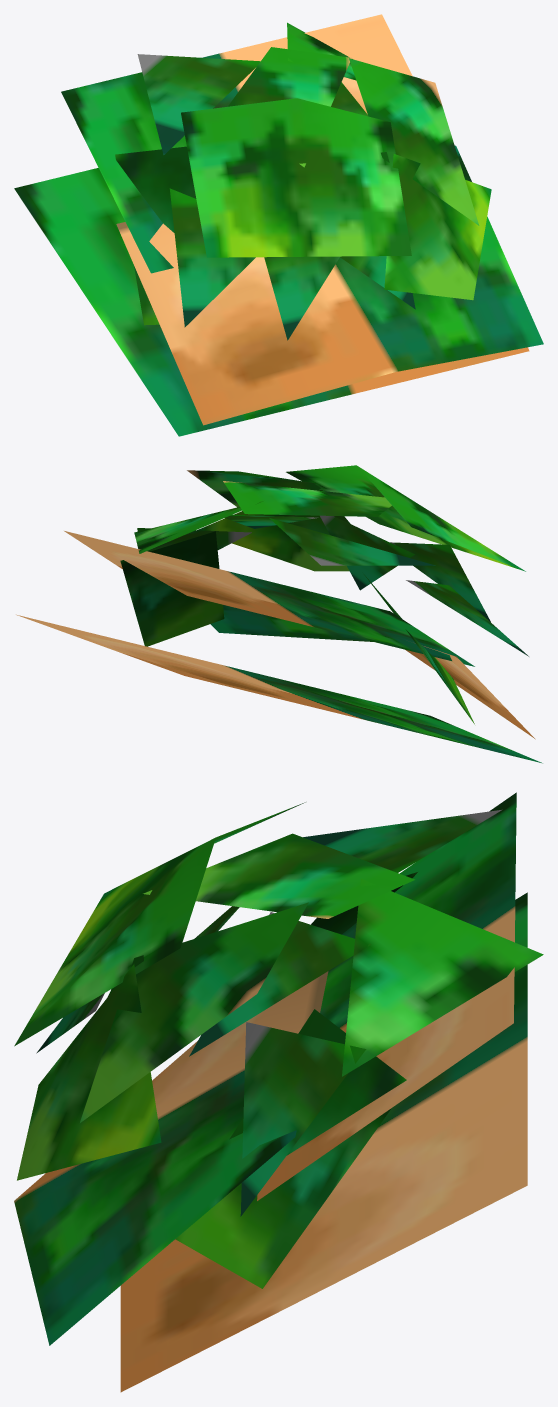
File: fg_bushD_2_ye.dae
The picture shows the model from 3 angles, top to bottom: view 1: azimuth 30°, elevation 25°; view 2: azimuth 150°, elevation 25°; view 3: azimuth 270°, elevation 25°; orthographic projection. The views are drawn at different scales.
Parts seen in each view (by area): view 1: fg_bushD_2_ye; view 2: fg_bushD_2_ye; view 3: fg_bushD_2_ye.
Part boxes in pixels (x1,y1,x2,y2): fg_bushD_2_ye: (14, 14, 543, 436); fg_bushD_2_ye: (16, 465, 542, 763); fg_bushD_2_ye: (14, 792, 543, 1392).
Bounding box in the file's own units: 47.83 × 31.26 × 36.53.
Materials: 1 (1 with a texture image).
